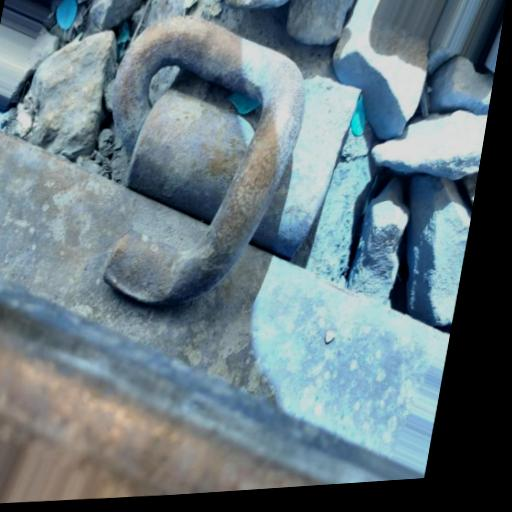erc_good: (71, 10, 353, 358)
